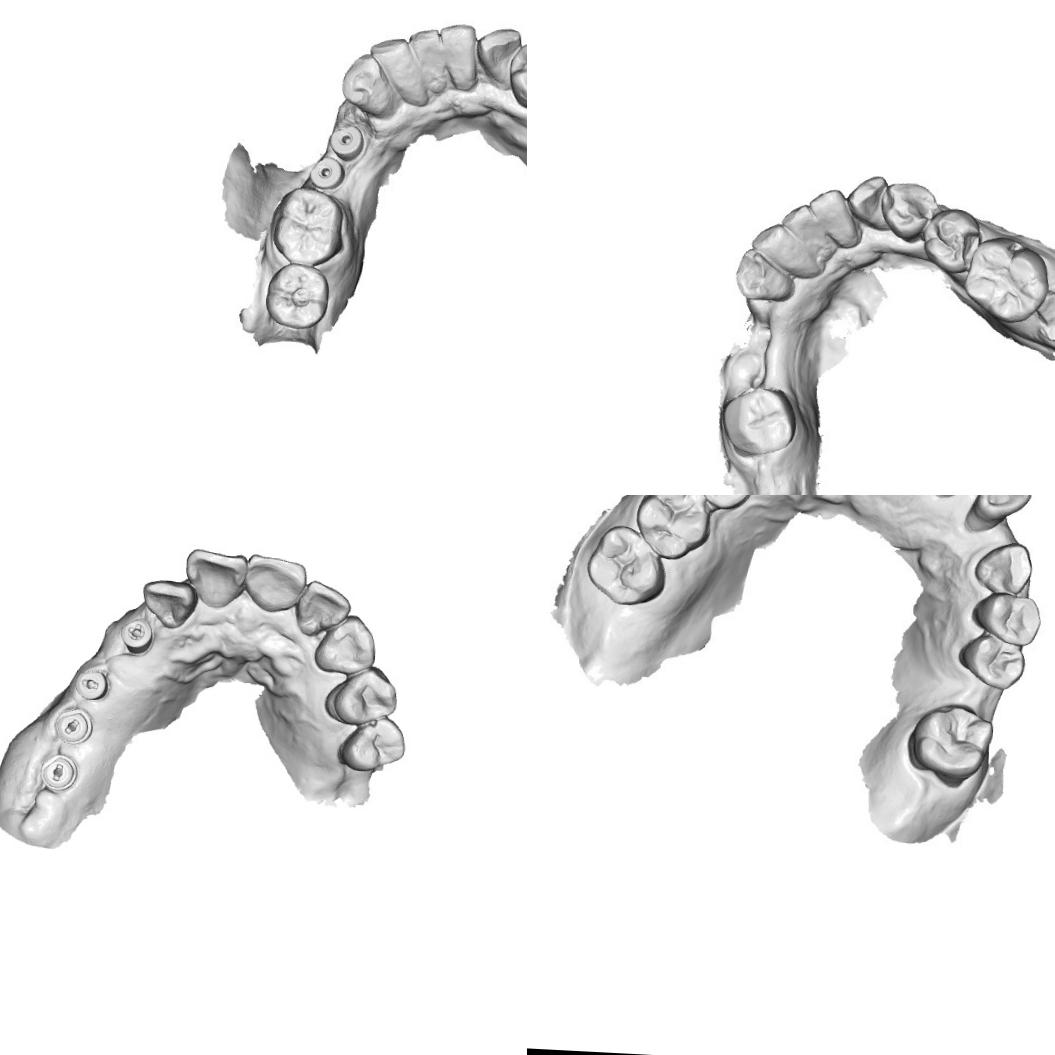canine: (311, 609, 378, 676), (342, 50, 398, 122), (473, 21, 527, 89), (972, 539, 1034, 596), (844, 172, 890, 232)
implant: (329, 119, 368, 156), (308, 154, 345, 188)
implant_minus: (36, 750, 80, 796), (70, 664, 111, 704), (50, 706, 93, 744)
implant_plus: (117, 613, 154, 658)
incisor: (241, 553, 309, 620), (748, 221, 825, 280), (180, 546, 248, 610), (732, 246, 798, 304), (294, 576, 353, 640), (139, 574, 197, 630), (777, 202, 834, 257), (804, 185, 856, 244), (962, 495, 1033, 535), (366, 34, 419, 82), (404, 20, 450, 70), (434, 19, 479, 61)
molar: (958, 232, 1054, 326), (904, 701, 995, 790), (584, 522, 667, 607), (722, 382, 799, 459), (632, 495, 714, 562), (274, 191, 345, 266), (263, 262, 331, 332)
premolar: (334, 712, 411, 776), (328, 664, 402, 730), (920, 205, 986, 274), (970, 589, 1044, 647), (956, 631, 1026, 690), (877, 178, 936, 246), (505, 40, 527, 111), (688, 495, 755, 511)
